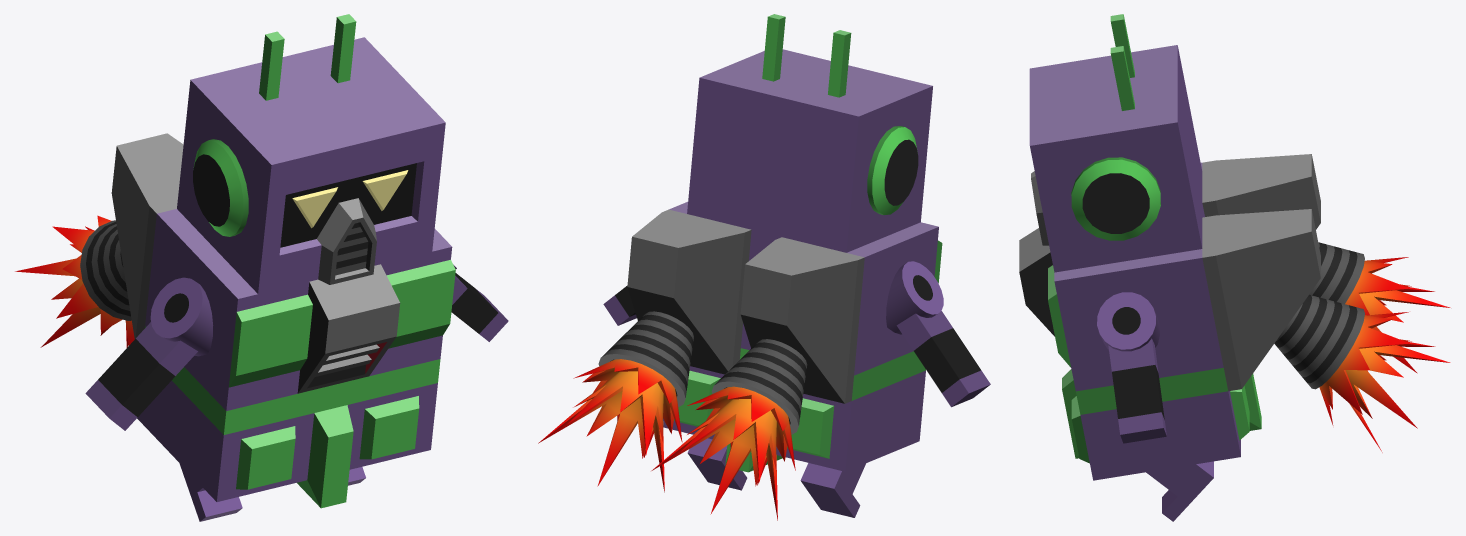
3 views of the same model, side by side, from view 1: azimuth 30°, elevation 25°; view 2: azimuth 150°, elevation 25°; view 3: azimuth 270°, elevation 25° (orthographic). The views are drawn at different scales.
Visible parts, largest first — view 1: Ch_210, Ch_210_Head, Ch_210_Arm_L, Ch_228_Fire_R, Ch_210_Arm_R, Ch_210_Eye_01, Ch_210_Leg_L; view 2: Ch_210, Ch_210_Head, Ch_210_Arm_L, Ch_228_Fire_R, Ch_228_Fire_L, Ch_210_Leg_L, Ch_210_Leg_R, Ch_210_Arm_R; view 3: Ch_210, Ch_210_Head, Ch_210_Arm_R, Ch_228_Fire_L, Ch_228_Fire_R, Ch_210_Leg_R.
Part boxes in pixels (x1=…): Ch_210: x1=80, y1=133, x2=455, y2=508; Ch_210_Head: x1=177, y1=14, x2=445, y2=293; Ch_210_Arm_L: x1=85, y1=277, x2=213, y2=430; Ch_228_Fire_R: x1=15, y1=215, x2=134, y2=347; Ch_210_Arm_R: x1=451, y1=264, x2=508, y2=341; Ch_210_Eye_01: x1=292, y1=170, x2=408, y2=228; Ch_210_Leg_L: x1=179, y1=463, x2=242, y2=521; Ch_210: x1=598, y1=201, x2=942, y2=472; Ch_210_Head: x1=687, y1=14, x2=932, y2=252; Ch_210_Arm_L: x1=886, y1=261, x2=990, y2=407; Ch_228_Fire_R: x1=651, y1=386, x2=795, y2=520; Ch_228_Fire_L: x1=538, y1=359, x2=682, y2=492; Ch_210_Leg_L: x1=800, y1=463, x2=865, y2=517; Ch_210_Leg_R: x1=687, y1=438, x2=747, y2=490; Ch_210_Arm_R: x1=603, y1=285, x2=636, y2=325; Ch_210: x1=1019, y1=154, x2=1364, y2=480; Ch_210_Head: x1=1029, y1=14, x2=1202, y2=272; Ch_210_Arm_R: x1=1097, y1=292, x2=1166, y2=443; Ch_228_Fire_L: x1=1319, y1=312, x2=1450, y2=452; Ch_228_Fire_R: x1=1345, y1=257, x2=1450, y2=373; Ch_210_Leg_R: x1=1146, y1=461, x2=1213, y2=521.
Bounding box in the file's own units: 7.9 × 9.41 × 8.13.
